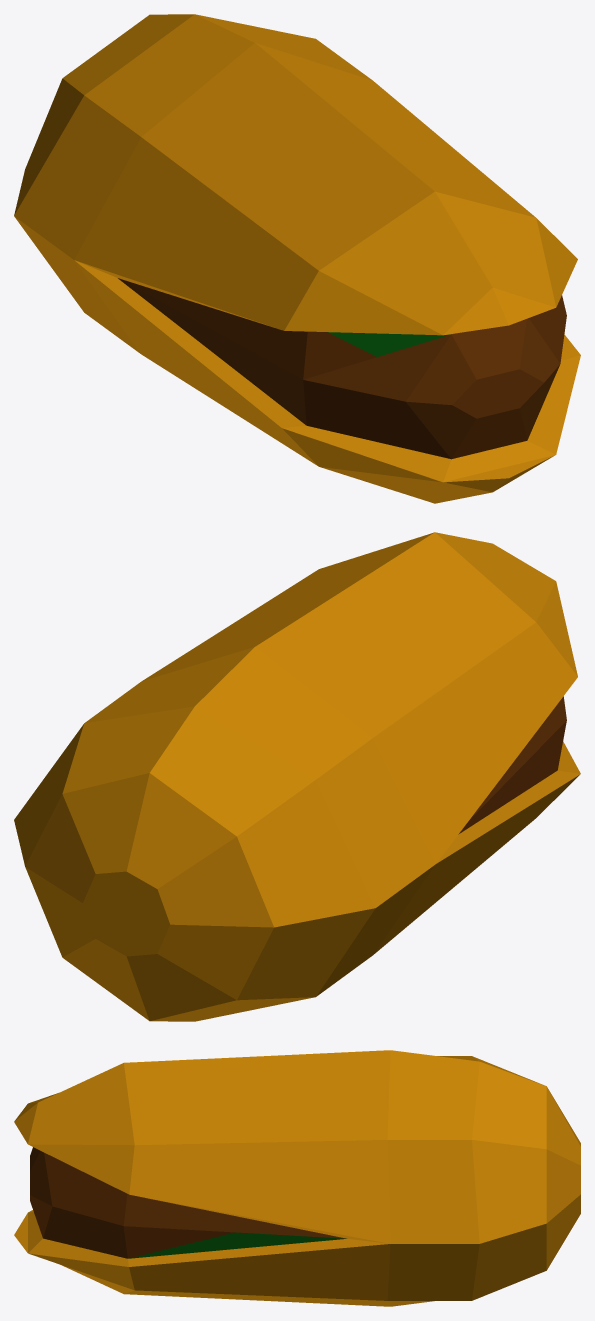
File: pistachio01.gltf
The picture shows the model from 3 angles, top to bottom: view 1: azimuth 30°, elevation 25°; view 2: azimuth 150°, elevation 25°; view 3: azimuth 270°, elevation 25°; orthographic projection. The views are drawn at different scales.
Parts seen in each view (by area): view 1: Cylinder.001; view 2: Cylinder.001; view 3: Cylinder.001.
Boxes of the visible parts, x1=… form: Cylinder.001: x1=14, y1=14, x2=580, y2=503; Cylinder.001: x1=14, y1=532, x2=580, y2=1021; Cylinder.001: x1=14, y1=1050, x2=580, y2=1306.
Bounding box in the file's own units: 0.0138 × 0.0127 × 0.0254.
1 material, 1 textured.
